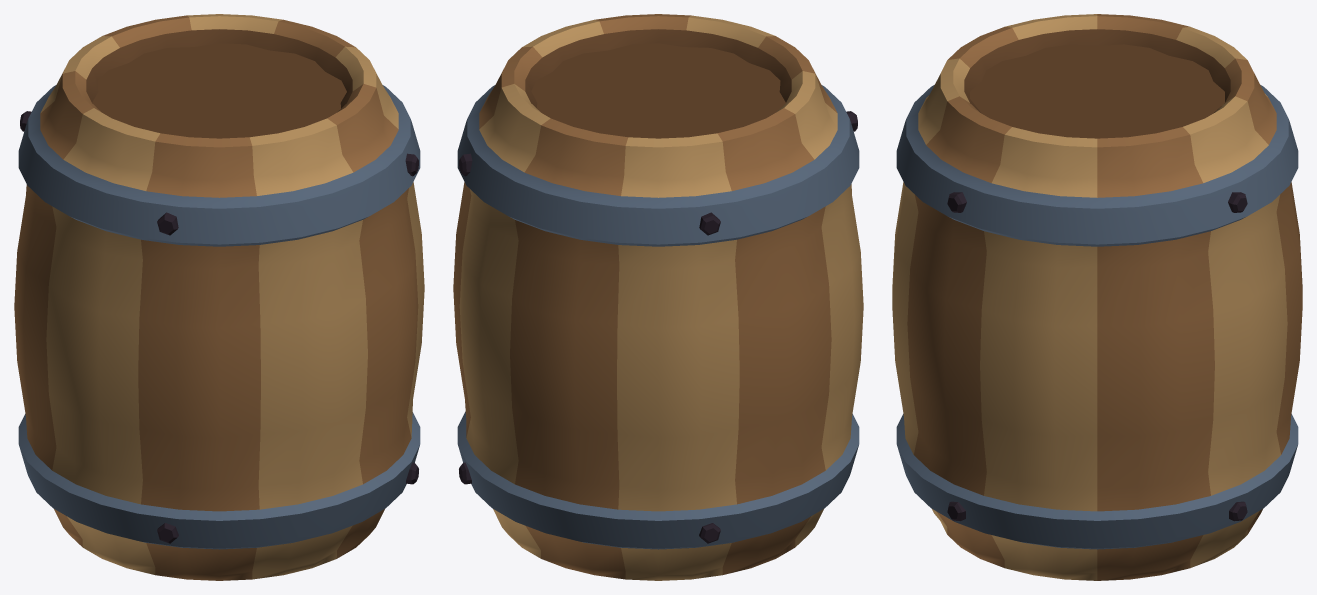
File: Barrel_12.glb
3 views of the same model, side by side, from view 1: azimuth 30°, elevation 25°; view 2: azimuth 150°, elevation 25°; view 3: azimuth 270°, elevation 25° (orthographic).
Parts seen in each view (by area): view 1: Barrel_12; view 2: Barrel_12; view 3: Barrel_12.
Part boxes in pixels (x1,y1,x2,y2): Barrel_12: [14, 14, 424, 580]; Barrel_12: [453, 14, 863, 580]; Barrel_12: [892, 14, 1302, 580].
Bounding box in the file's own units: 2.19 × 2.63 × 2.22.
